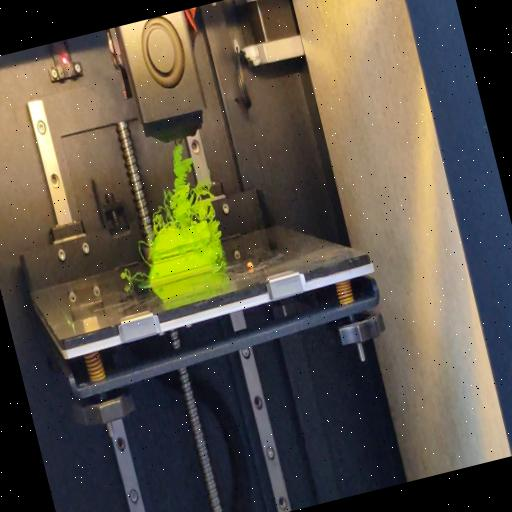spaghetti: (134, 141, 216, 236), (208, 220, 231, 270), (134, 235, 156, 269), (118, 262, 150, 284)
